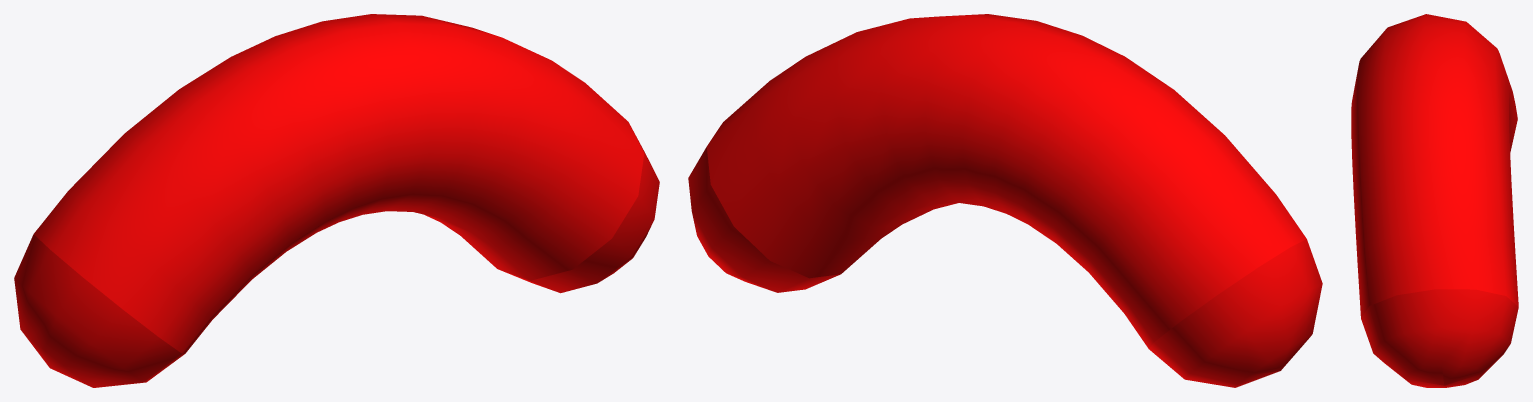
File: Mouth2.glb
3 renders of one model, left to right at view 1: azimuth 30°, elevation 25°; view 2: azimuth 150°, elevation 25°; view 3: azimuth 270°, elevation 25°, orthographic. The views are drawn at different scales.
Parts seen in each view (by area): view 1: Mouth2; view 2: Mouth2; view 3: Mouth2.
Part boxes in pixels (x1=…): Mouth2: x1=14, y1=14, x2=659, y2=387; Mouth2: x1=688, y1=14, x2=1322, y2=387; Mouth2: x1=1351, y1=14, x2=1518, y2=387.
Bounding box in the file's own units: 50.66 × 24.38 × 14.82.
